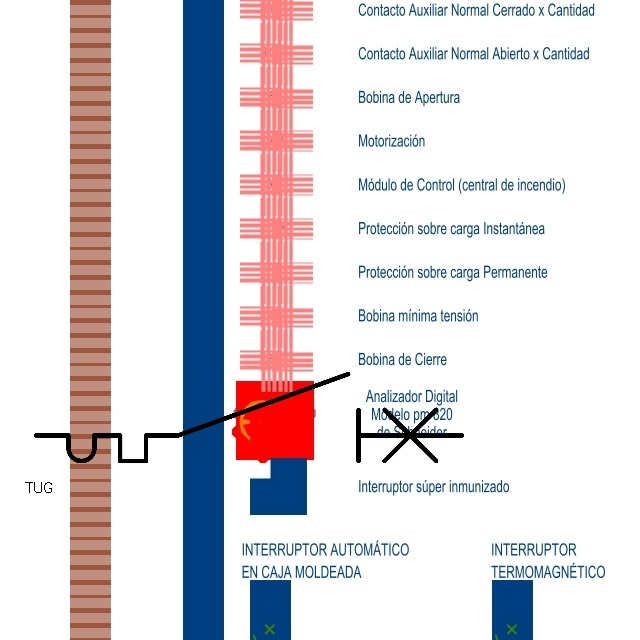interruptor_termomagnetico: (25, 363, 472, 472)
